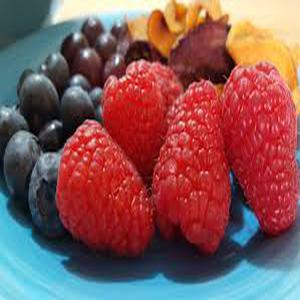raspb: (80, 61, 300, 253)
